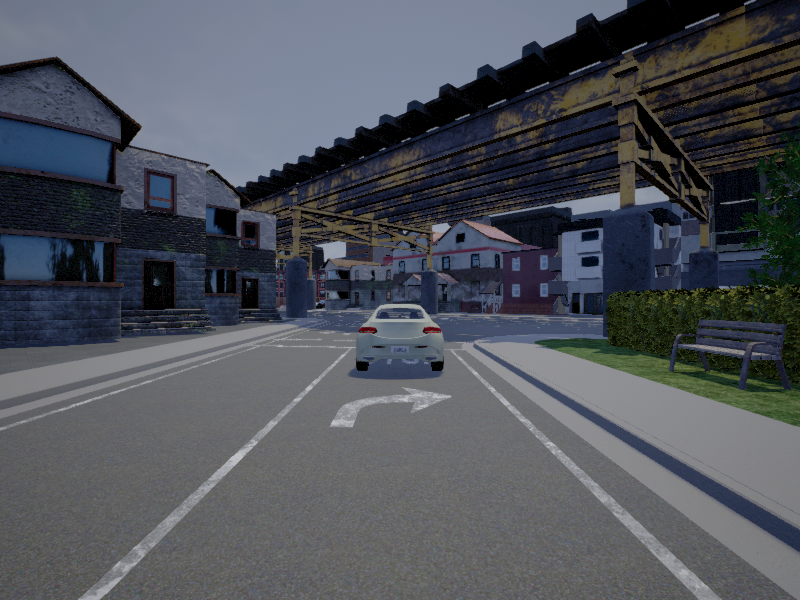Benign: (358, 304, 446, 373)
